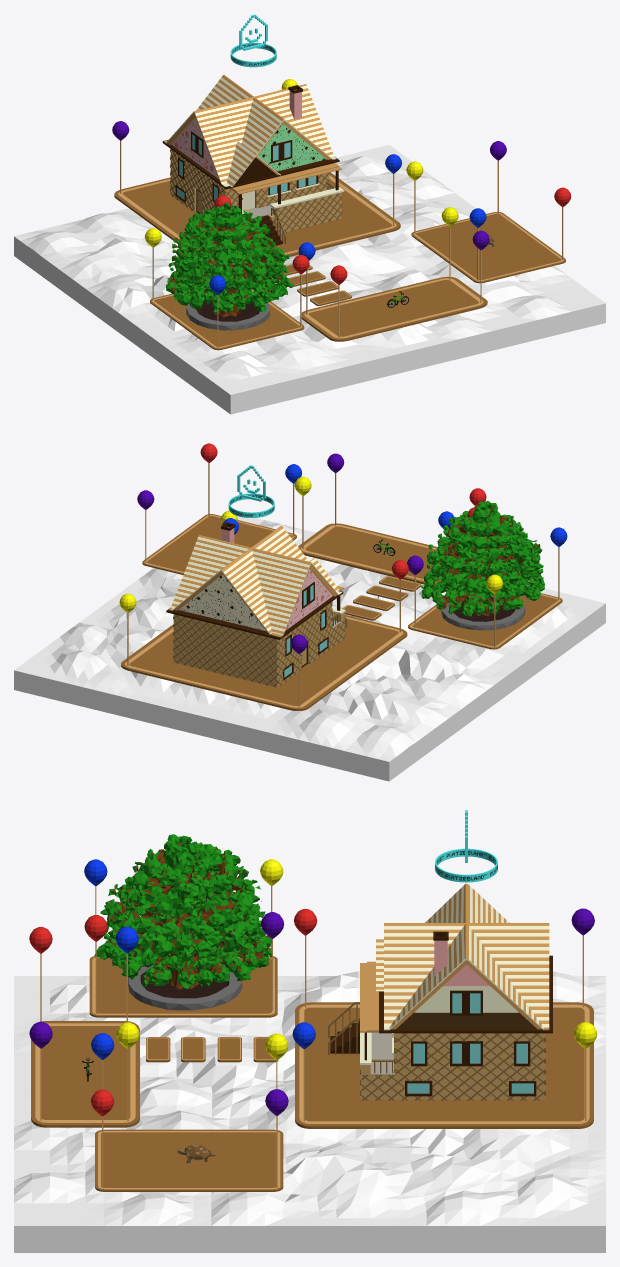
The picture shows the model from 3 angles, top to bottom: view 1: azimuth 30°, elevation 25°; view 2: azimuth 150°, elevation 25°; view 3: azimuth 270°, elevation 25°; orthographic projection. The views are drawn at different scales.
Parts seen in each view (by area): view 1: Cube.013, Cube.1102, OBJRANDOM_CEIBA, TYPE_PREMIUM; view 2: Cube.013, Cube.1102, OBJRANDOM_CEIBA, TYPE_PREMIUM; view 3: Cube.013, Cube.1102, OBJRANDOM_CEIBA, TYPE_PREMIUM.
Boxes of the visible parts, x1,y1,x2,y2 form: Cube.013: (14, 79, 605, 414); Cube.1102: (162, 75, 344, 245); OBJRANDOM_CEIBA: (166, 202, 293, 330); TYPE_PREMIUM: (230, 14, 276, 67); Cube.013: (14, 443, 605, 781); Cube.1102: (166, 522, 346, 687); OBJRANDOM_CEIBA: (420, 501, 544, 630); TYPE_PREMIUM: (228, 465, 274, 517); Cube.013: (14, 859, 605, 1252); Cube.1102: (328, 883, 552, 1100); OBJRANDOM_CEIBA: (94, 834, 271, 1010); TYPE_PREMIUM: (435, 810, 497, 882).
Bounding box in the file's own units: 4000 × 2393 × 4000.
34 materials, 4 textured.
